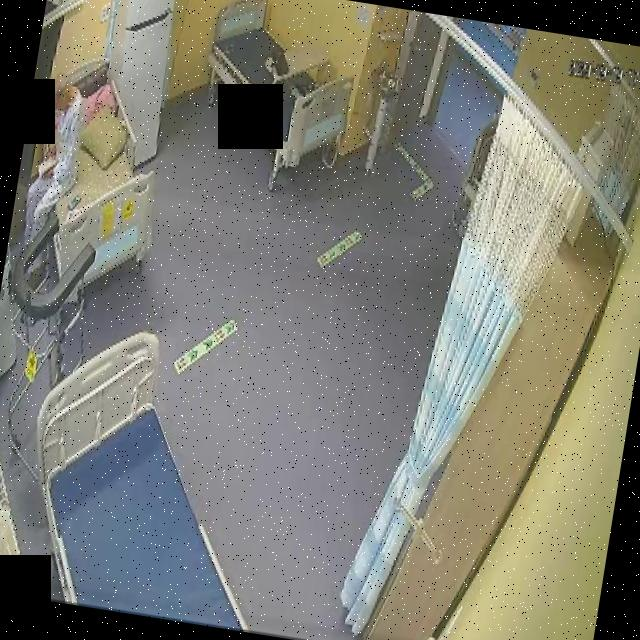bed: (10, 317, 292, 630), (17, 50, 180, 298), (191, 0, 366, 175)
patient: (21, 70, 92, 247)
sit: (21, 69, 92, 247)
